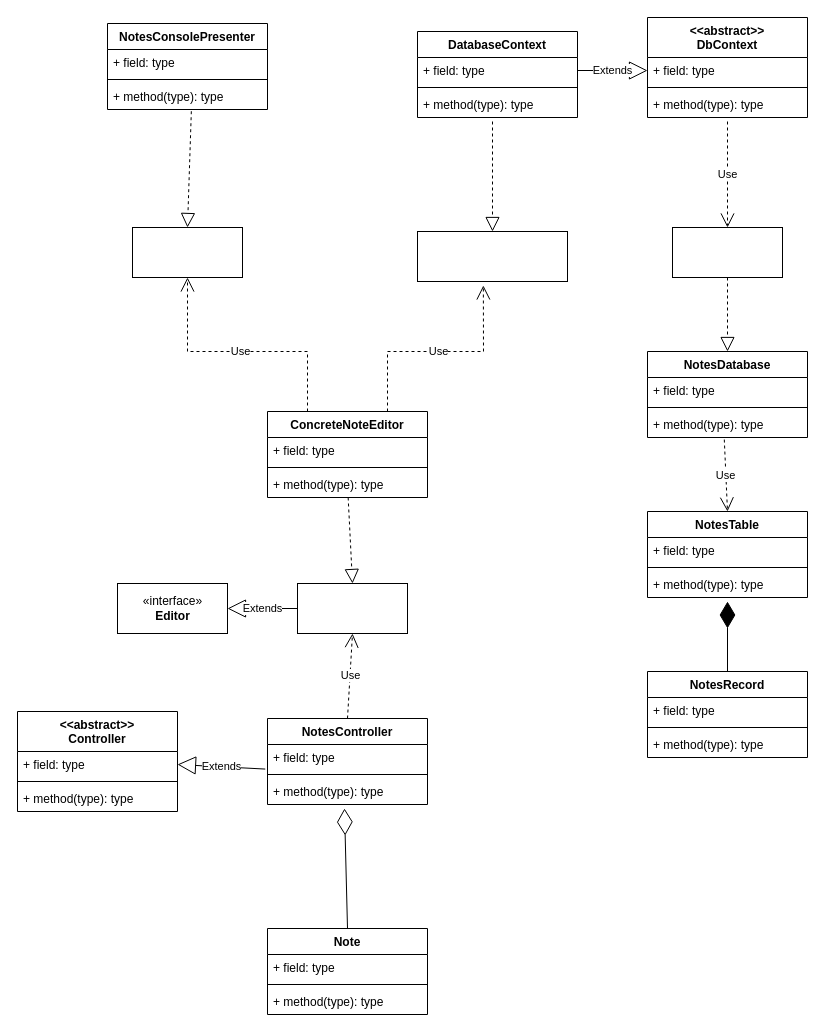
Some shapes in this 825 by 1035 pixel diagram are drawn without their labels. The shapes that lost their labels are listed below. From the top down, each one's centre as x and y in pixels, then its label:
At (x=187, y=252): "«interface» NotesPresenter".
At (x=492, y=256): "«interface» NotesDstabaseContext".
At (x=727, y=252): "«interface» Database".
At (x=352, y=608): "«interface» NoteEditor".
